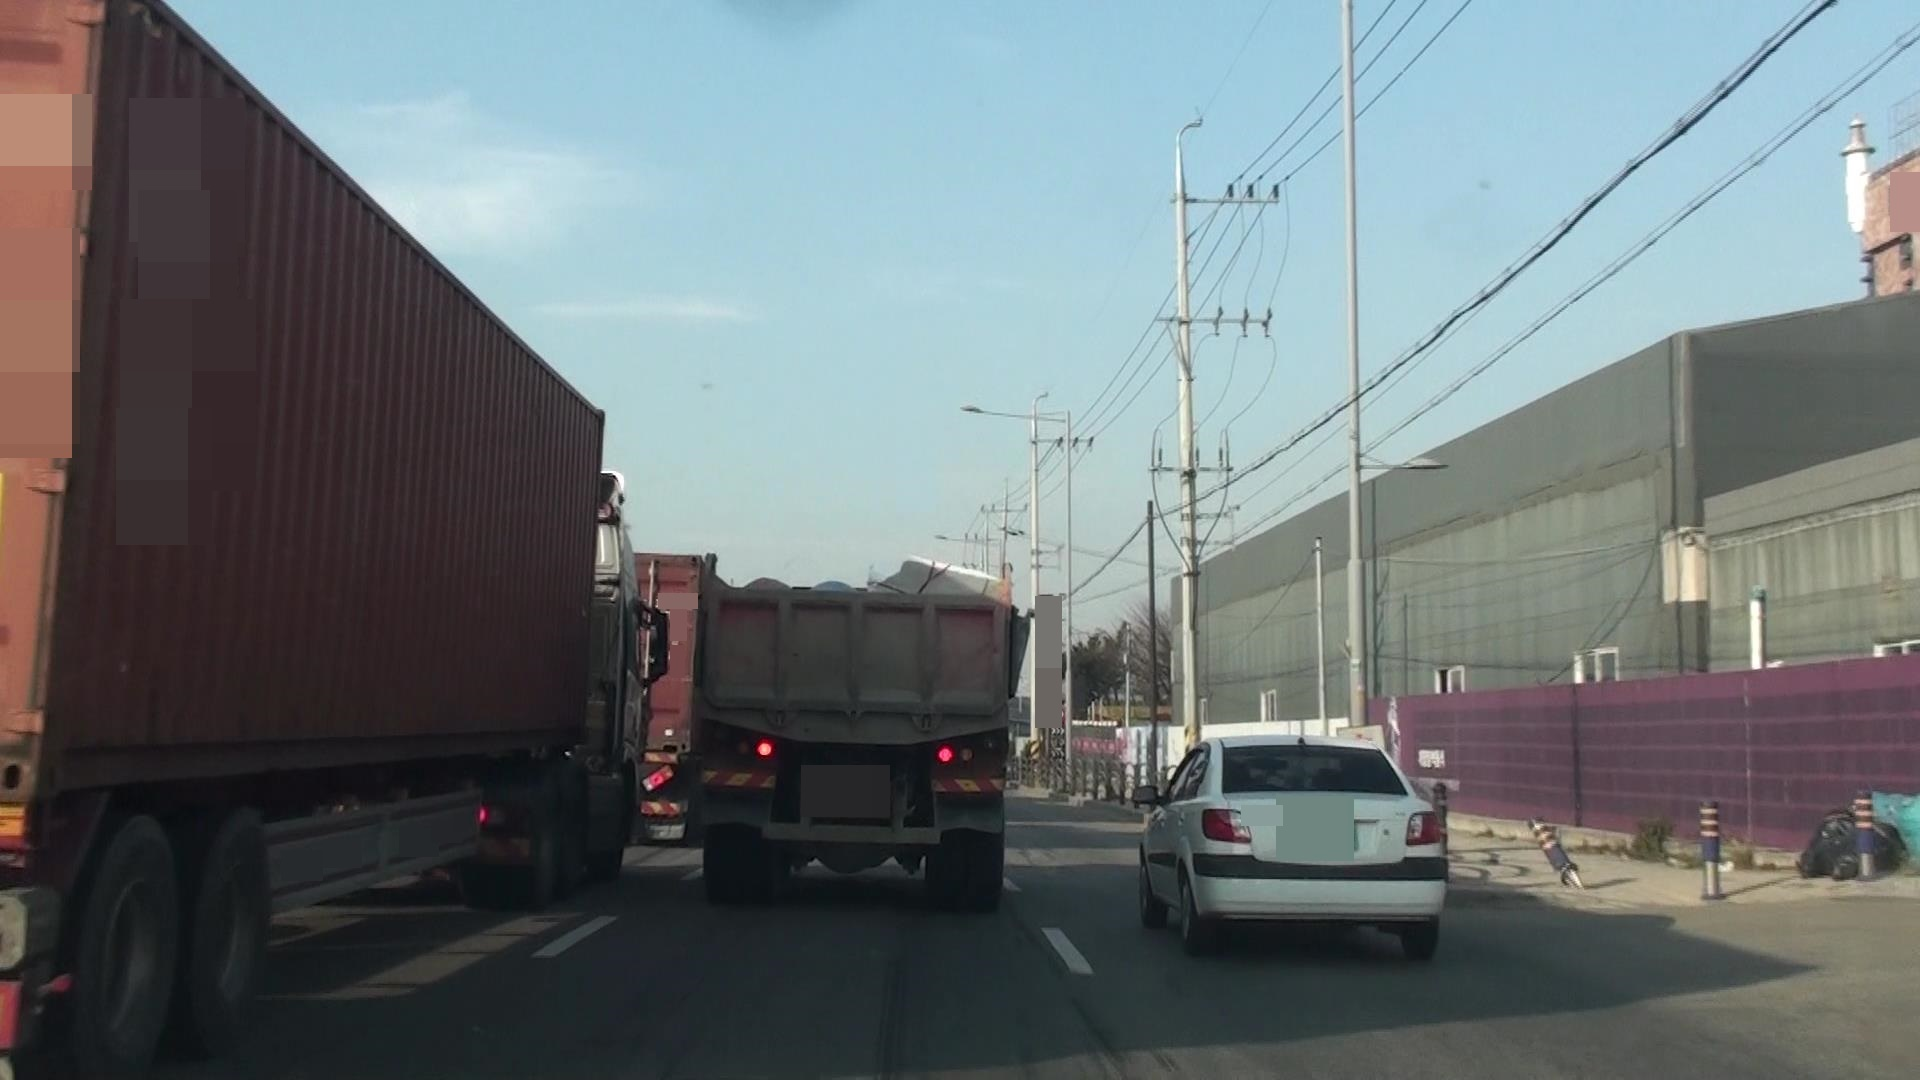불법차량: (687, 554, 1031, 915)
